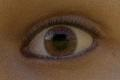eye: (44, 25, 78, 57)
